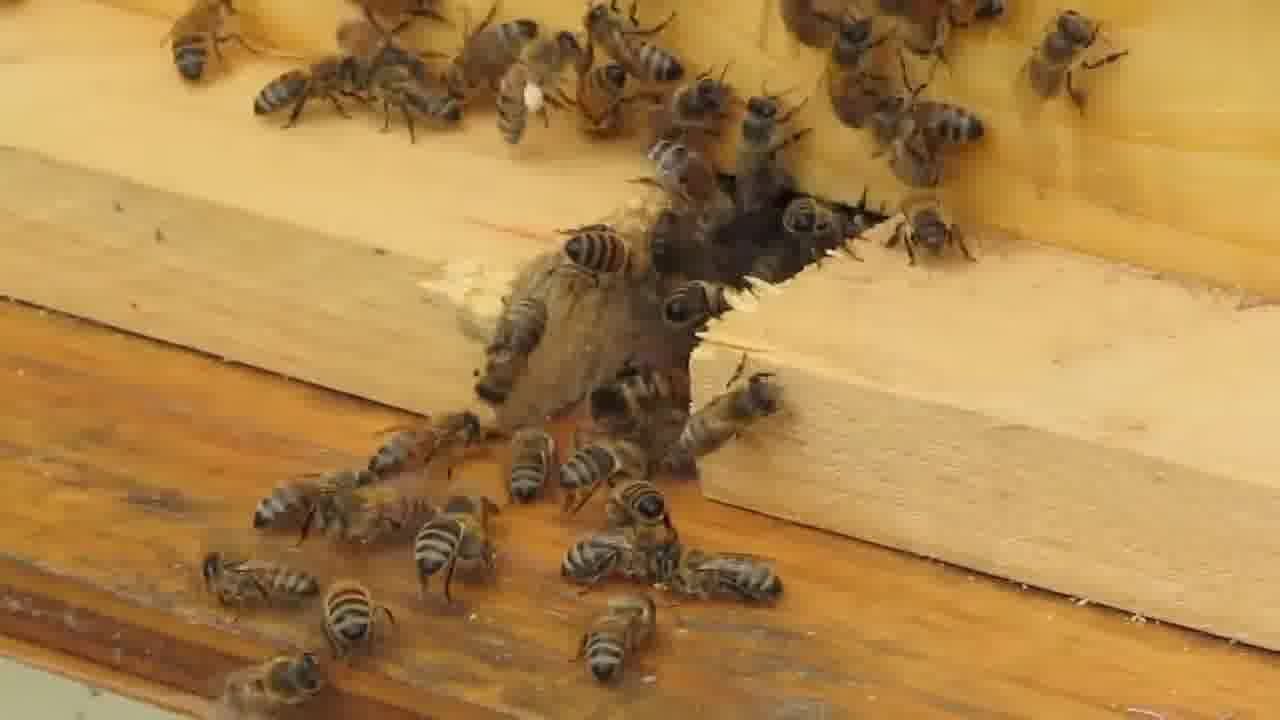pollen: (487, 27, 574, 146)
